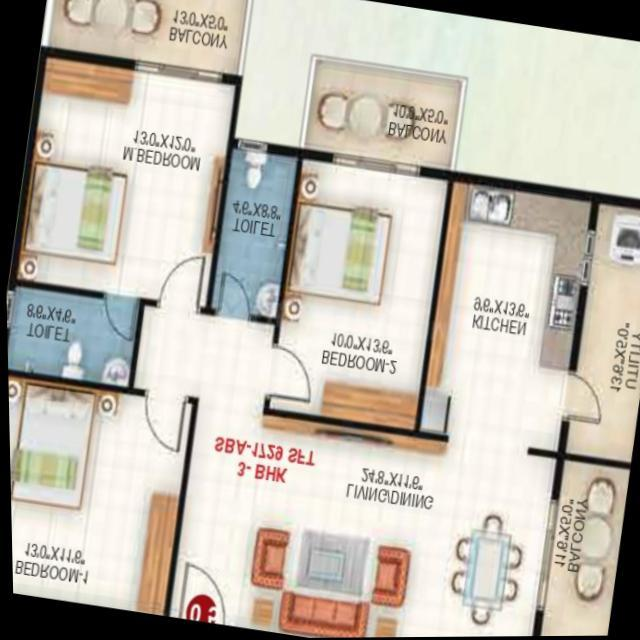Balcony-Sitout: (306, 65, 462, 165), (540, 469, 627, 637), (49, 0, 246, 68)
Bedroom: (272, 160, 445, 426), (7, 379, 188, 616)
Bedroom with Toilet: (6, 58, 232, 390)
Dining: (438, 507, 530, 636)
Enterance-Foyer: (174, 561, 227, 625)
Kitchen: (422, 187, 589, 451)
Living: (229, 419, 435, 638)
Toilet: (208, 155, 298, 322), (6, 284, 140, 390)
Utility: (564, 205, 640, 466)
